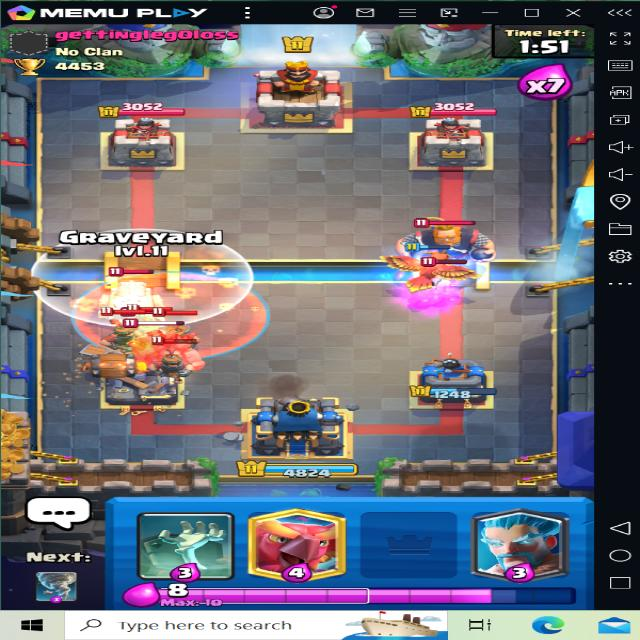Golem: (114, 316, 213, 376)
Royalgiant: (396, 217, 498, 270)
Royalrecruits: (142, 341, 192, 386), (108, 312, 141, 350)
Sparky: (96, 264, 165, 324)
